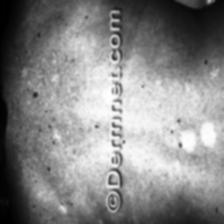Potentially Malignant Skin Tumors: (29, 89, 40, 103), (174, 139, 184, 151)
